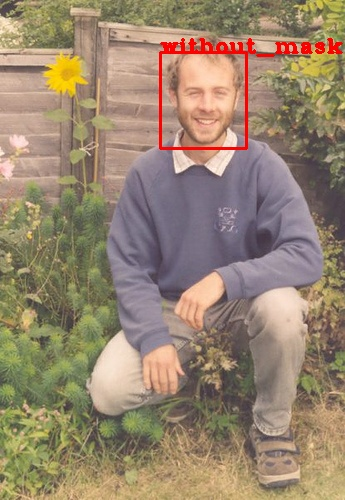without_mask: (168, 46, 243, 145)
